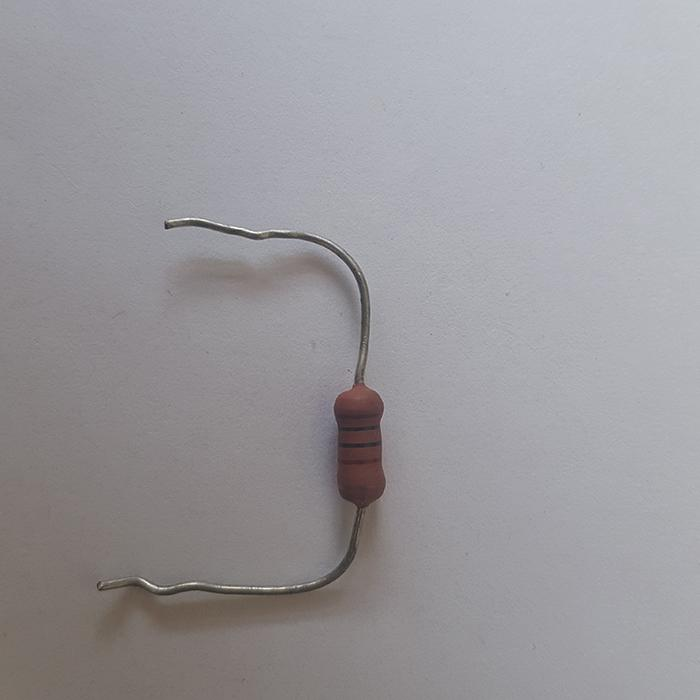resistor: (334, 381, 387, 508)
